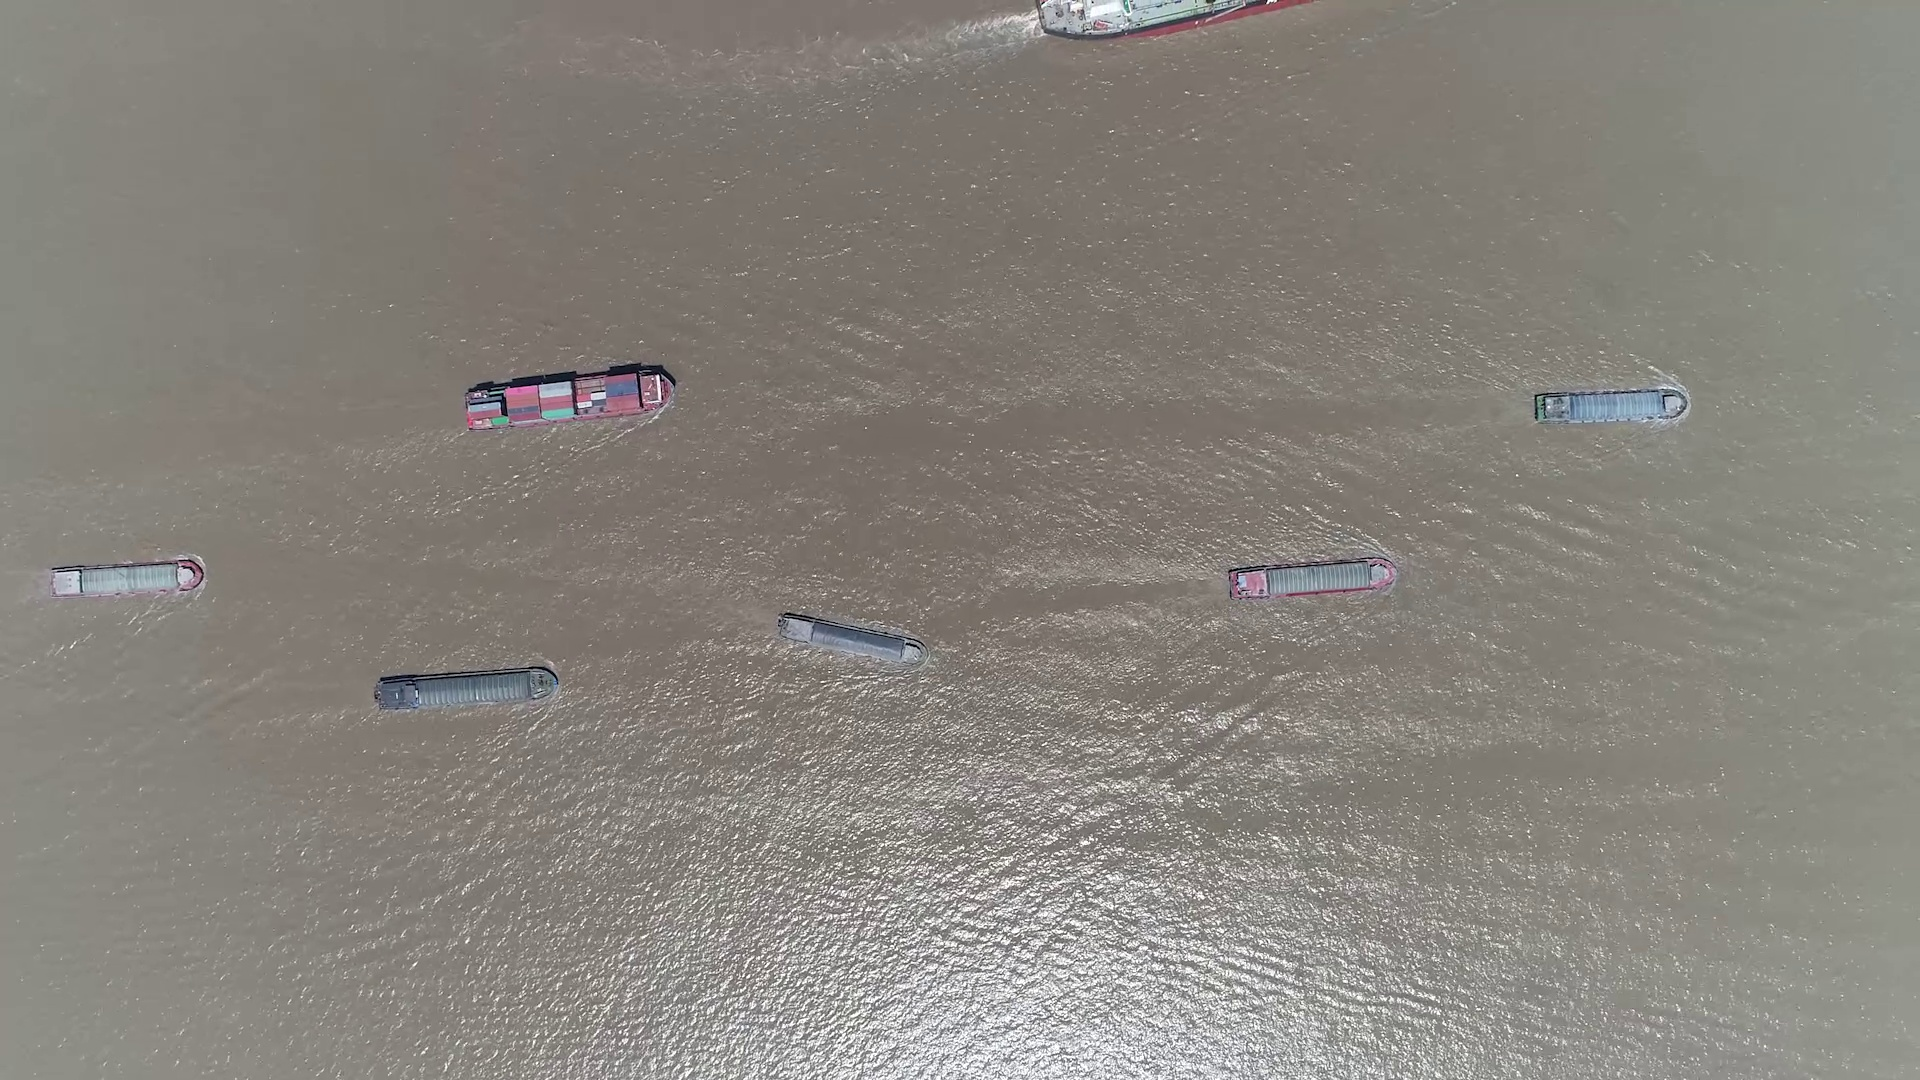ship: (463, 365, 676, 431), (1036, 1, 1309, 40), (775, 612, 928, 667), (376, 665, 559, 711), (1228, 556, 1399, 601), (49, 560, 204, 597), (1538, 390, 1687, 423)
